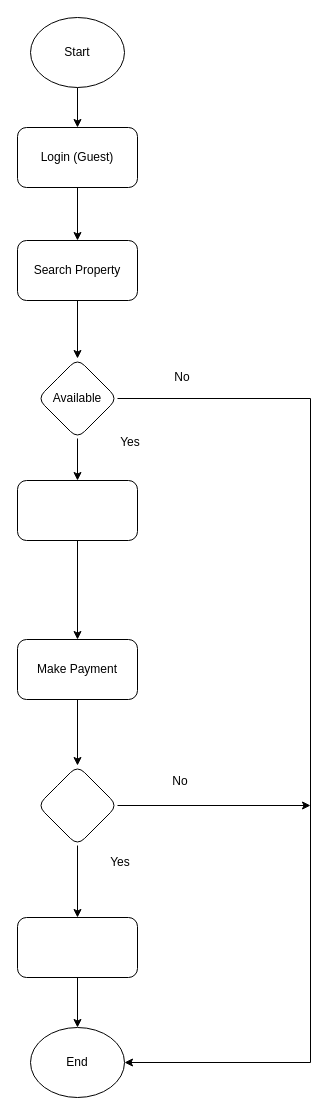
Some shapes in this 336 by 1115 pixel diagram are drawn without their labels. The shapes that lost their labels are listed below. From the top down, each one's centre as x and y in pixels, then its label:
At point (77, 510): "Confirm Request".
At point (77, 805): "Successful Payment".
At point (77, 947): "Save Booking and send Confirmation to Guest and Host".
